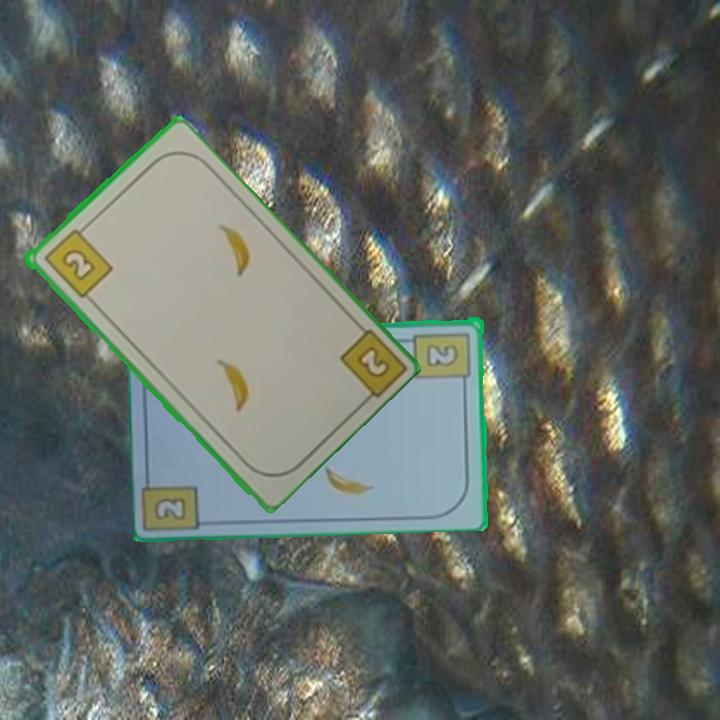2b: (39, 221, 115, 301), (411, 329, 474, 390), (352, 342, 393, 382), (150, 493, 190, 523)
